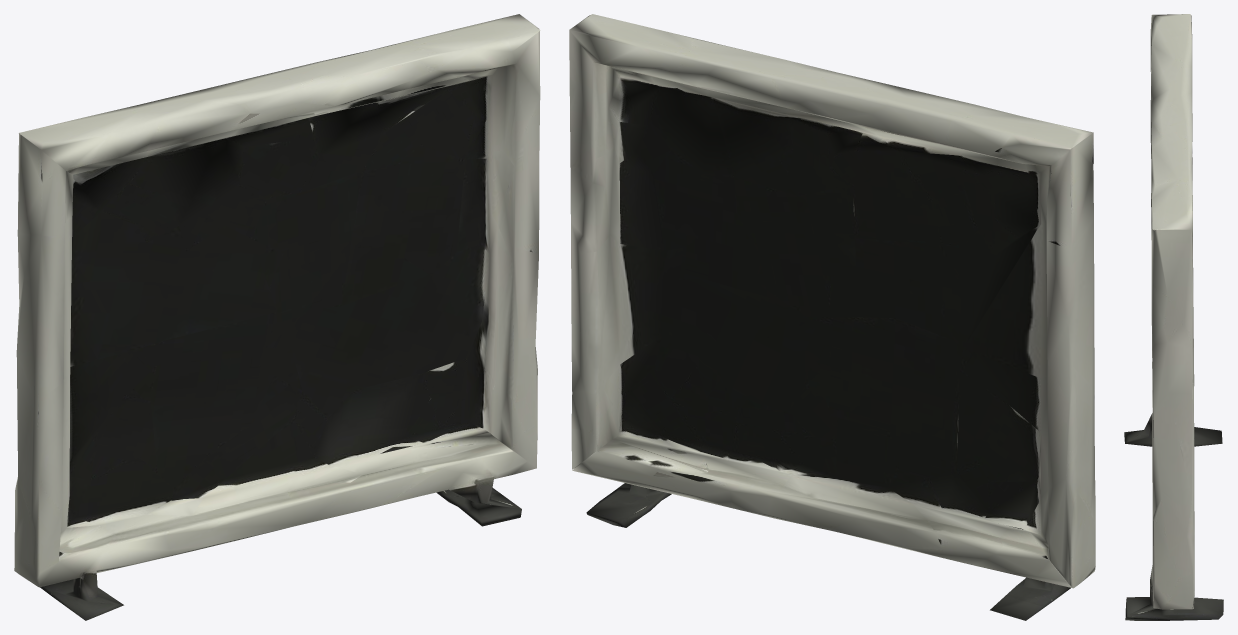
Rendered from level1-fake-window.glb.
3 renders of one model, left to right at view 1: azimuth 30°, elevation 25°; view 2: azimuth 150°, elevation 25°; view 3: azimuth 270°, elevation 25°, orthographic. The views are drawn at different scales.
Visible parts, largest first — view 1: tripo_node_3b26b06e-8b6d-4eb7-878d-5c45c5089fbe; view 2: tripo_node_3b26b06e-8b6d-4eb7-878d-5c45c5089fbe; view 3: tripo_node_3b26b06e-8b6d-4eb7-878d-5c45c5089fbe.
Part boxes in pixels (x1,y1,x2,y2): tripo_node_3b26b06e-8b6d-4eb7-878d-5c45c5089fbe: (14,14,540,620); tripo_node_3b26b06e-8b6d-4eb7-878d-5c45c5089fbe: (569,14,1095,620); tripo_node_3b26b06e-8b6d-4eb7-878d-5c45c5089fbe: (1124,14,1223,620).
Bounding box in the file's own units: 3.2 × 2.85 × 0.6287.
1 material, 1 textured.
